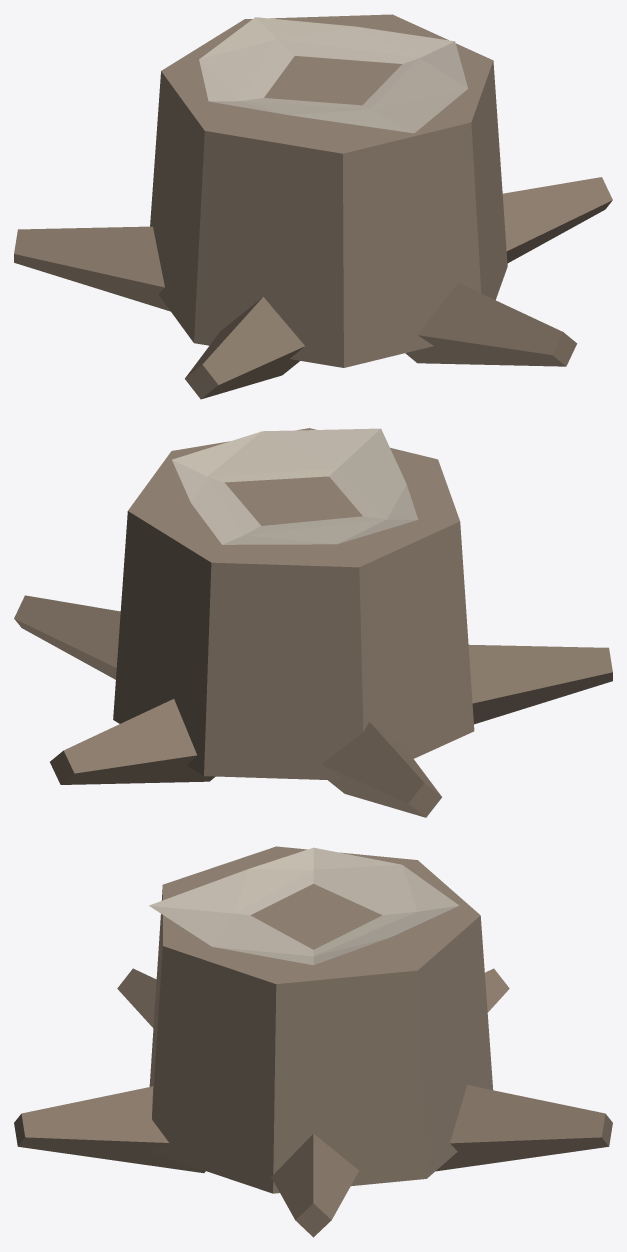
Rendered from stump_v10.glb.
The picture shows the model from 3 angles, top to bottom: view 1: azimuth 30°, elevation 25°; view 2: azimuth 150°, elevation 25°; view 3: azimuth 270°, elevation 25°; orthographic projection. The views are drawn at different scales.
Parts seen in each view (by area): view 1: lod0; view 2: lod0; view 3: lod0.
Boxes of the visible parts, x1,y1,x2,y2 form: lod0: (14, 14, 612, 399); lod0: (14, 428, 612, 817); lod0: (14, 846, 612, 1237).
Size of what is drawn, in the model's own units: 1.07 by 0.5522 by 1.12.
